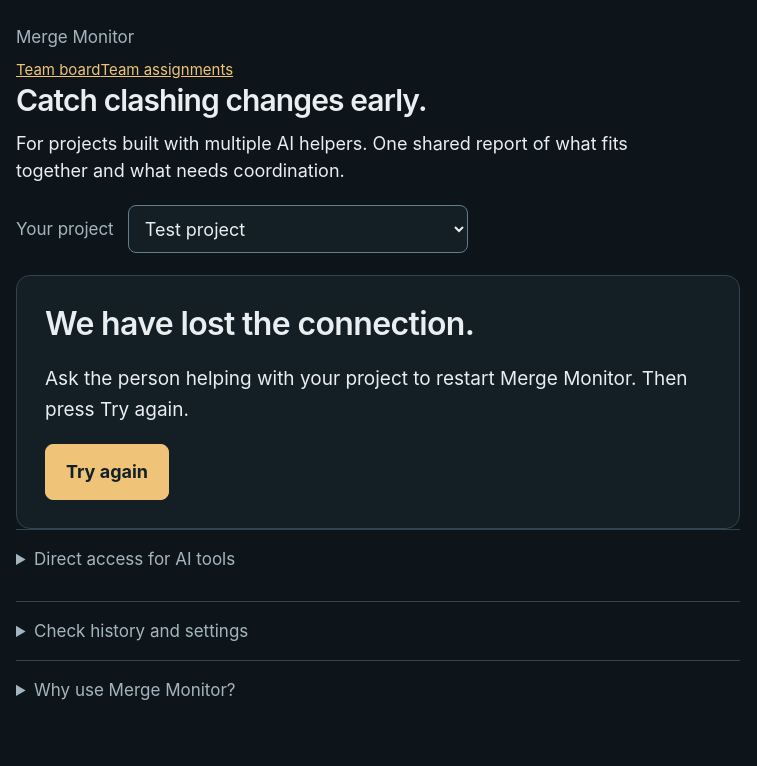
Test: replaces stale advice with one recovery action and disables project mutations
Expected: the dropdown labelled "Your project" is shown, x1=128 y1=205 x2=468 y2=253
Expected: the heading "We have lost the connection." is shown, x1=45 y1=304 x2=474 y2=343
Click the heading "Check history and settings": x=141, y=630 x1=34 y1=620 x2=248 y2=640
(page scrolled)
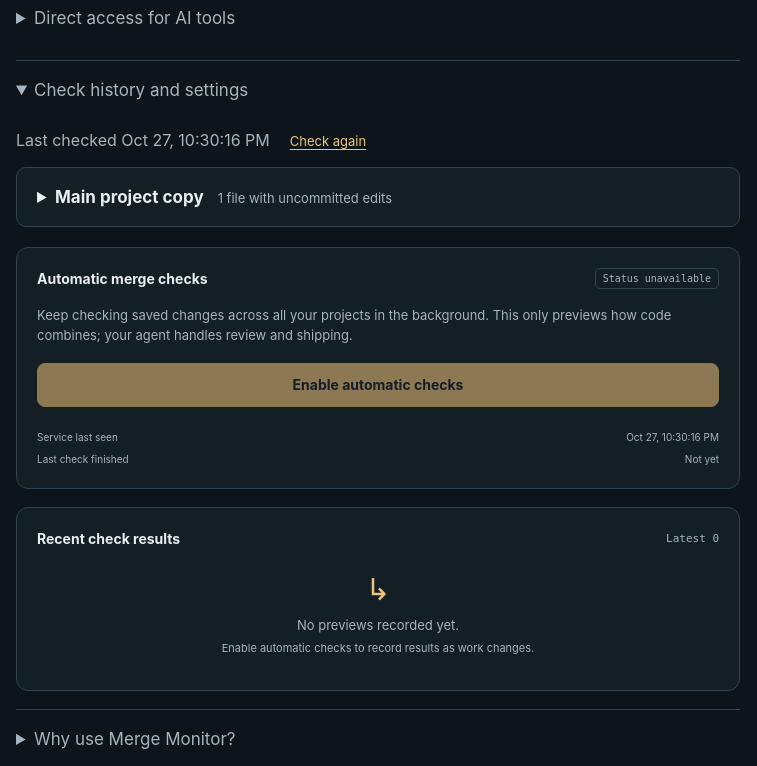
Result: the button "Enable automatic checks" is disabled at x1=37 y1=363 x2=719 y2=407
